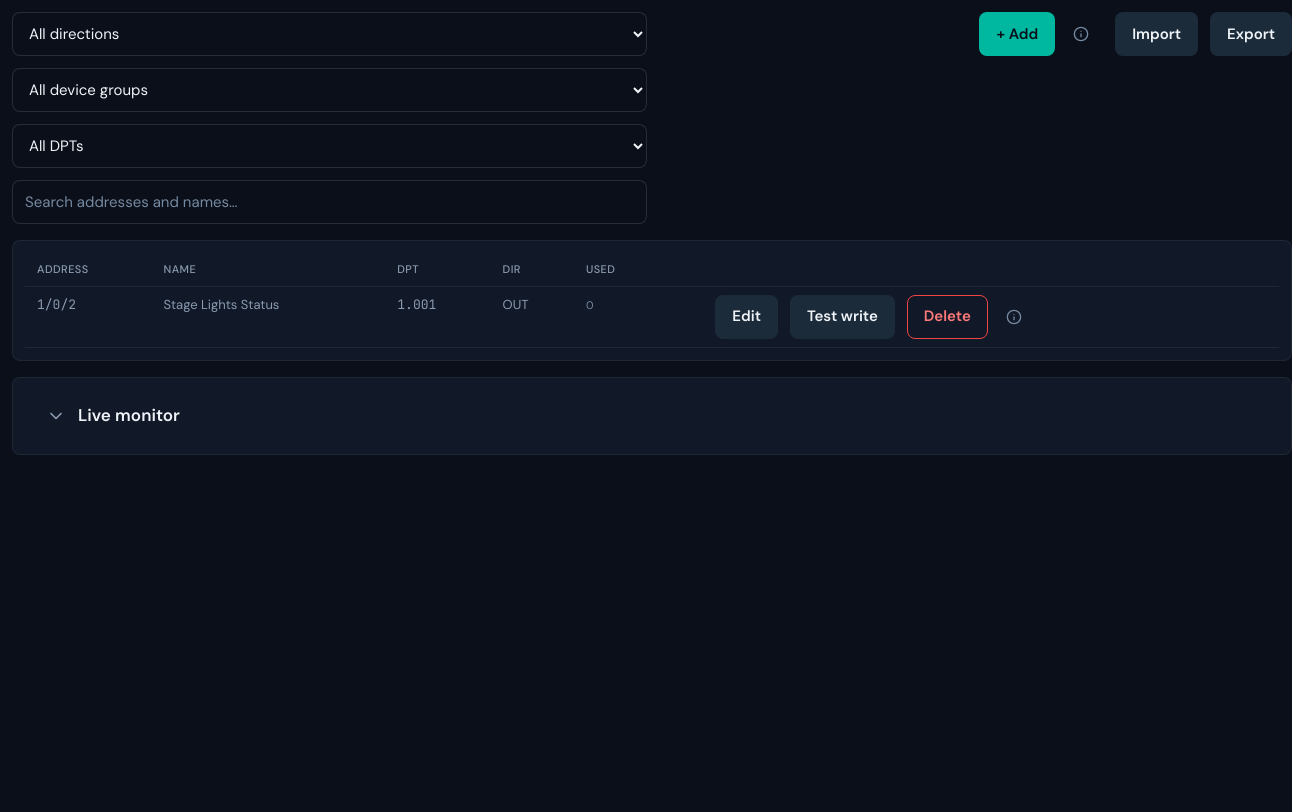
it: KNX Library gives every field and primary action help (spec §19.1) › Addresses tab row's Test write
Click the button "Test write". click: (842, 316)
box: 790,294 -> 895,338
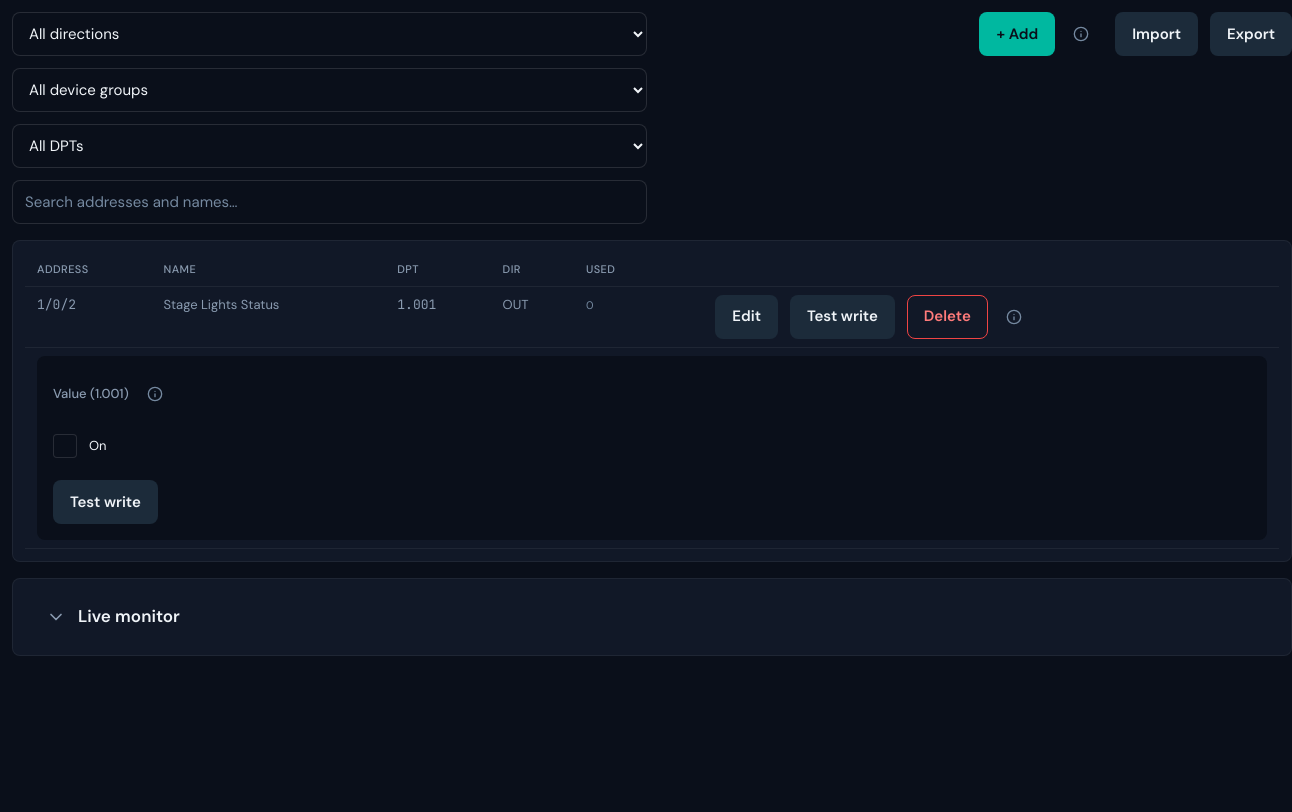
Expected: the checkbox "Value (1.001)" is shown, 53,384 -> 129,404
